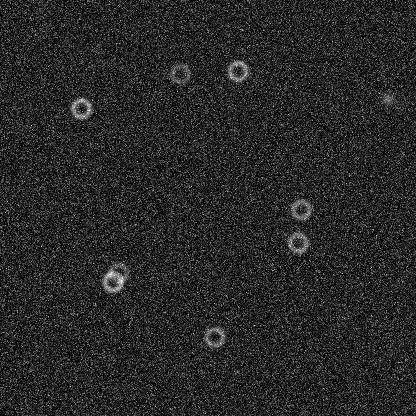Ring: (225, 58, 249, 82), (168, 61, 192, 85), (202, 325, 226, 349), (285, 230, 309, 254), (288, 197, 312, 221), (100, 269, 124, 293), (106, 261, 130, 285), (69, 96, 93, 120)
Spot: (379, 90, 395, 106)
